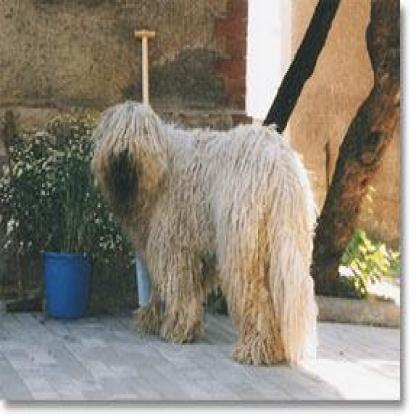komondor: (92, 98, 317, 368)
